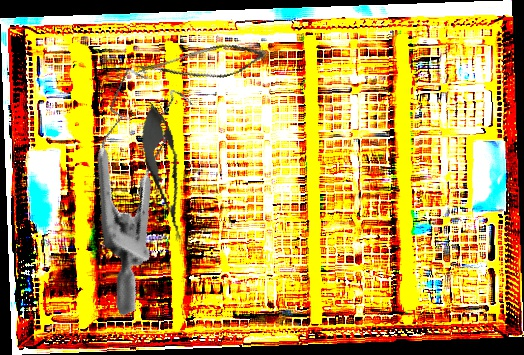Micro Scissor: (134, 27, 268, 103), (132, 98, 197, 246)
Speculum: (28, 51, 261, 317)
